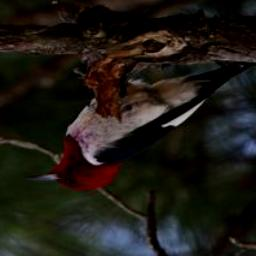Woodpecker: (21, 61, 256, 194)
